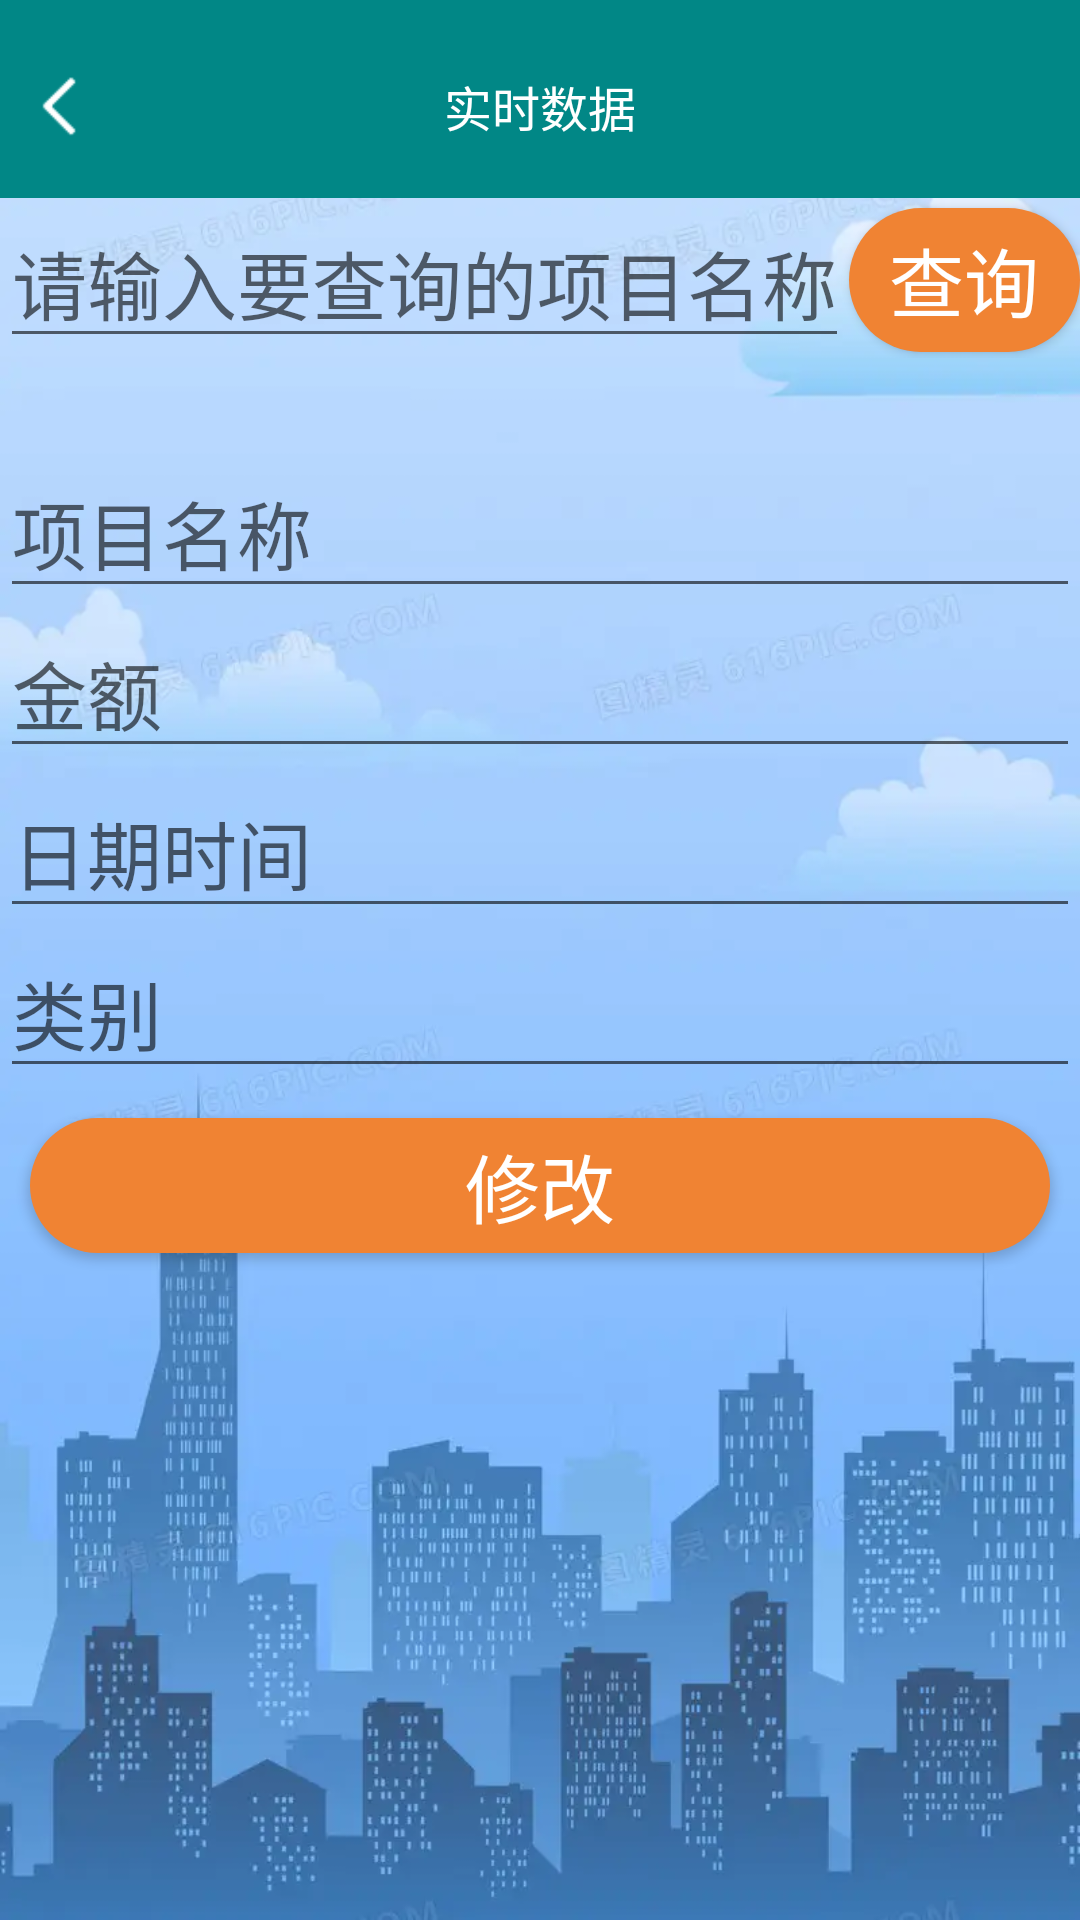

Screen size 1080 x 1920. Icon name, then its box in pixels as (x1, y1, x2, y2):
back arrow: (42, 77, 76, 135)
